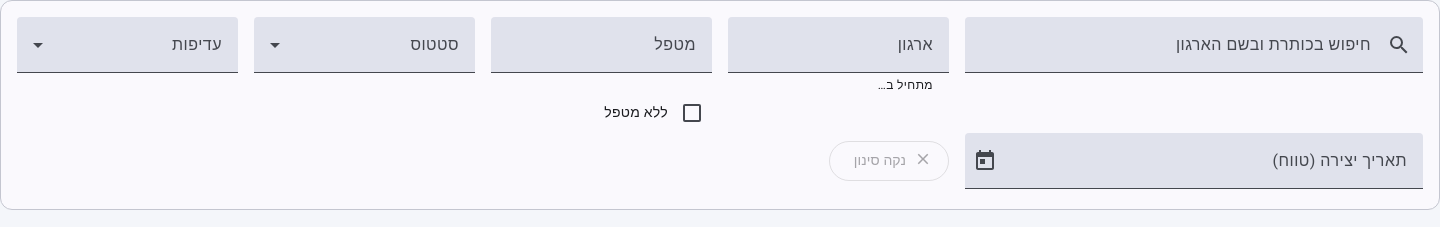
Scenario: RequestsFiltersComponent › hints that one character is not enough to search, and only then
Type "a" into the field labelled "חיפוש בכותרת ובשם הארגון" at x=1176, y=53, box [981,41,1371,65]
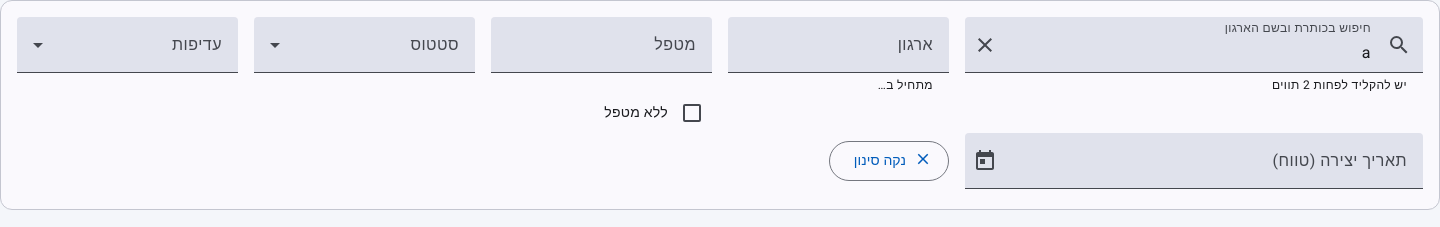
Check: the text "יש להקליד לפחות 2 תווים" is shown, box [1272,73,1407,93]
Replace the text in the field labelled "חיפוש בכותרת ובשם הארגון" with "ab" at x=1190, y=53, box [1009,41,1371,65]
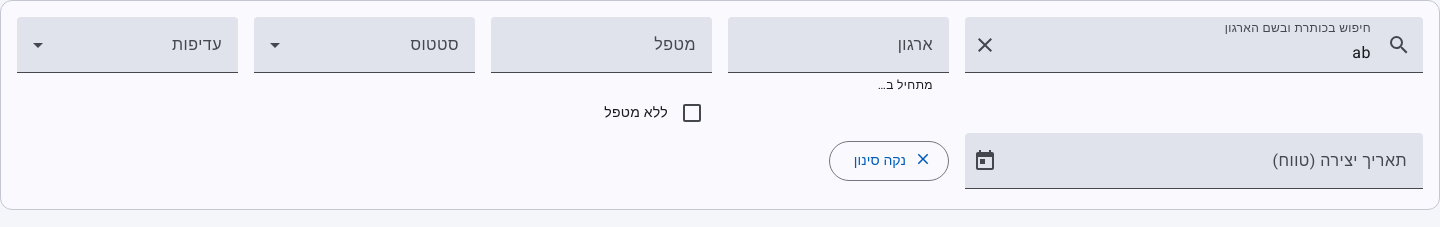
Check: the text "יש להקליד לפחות 2 תווים" is gone
